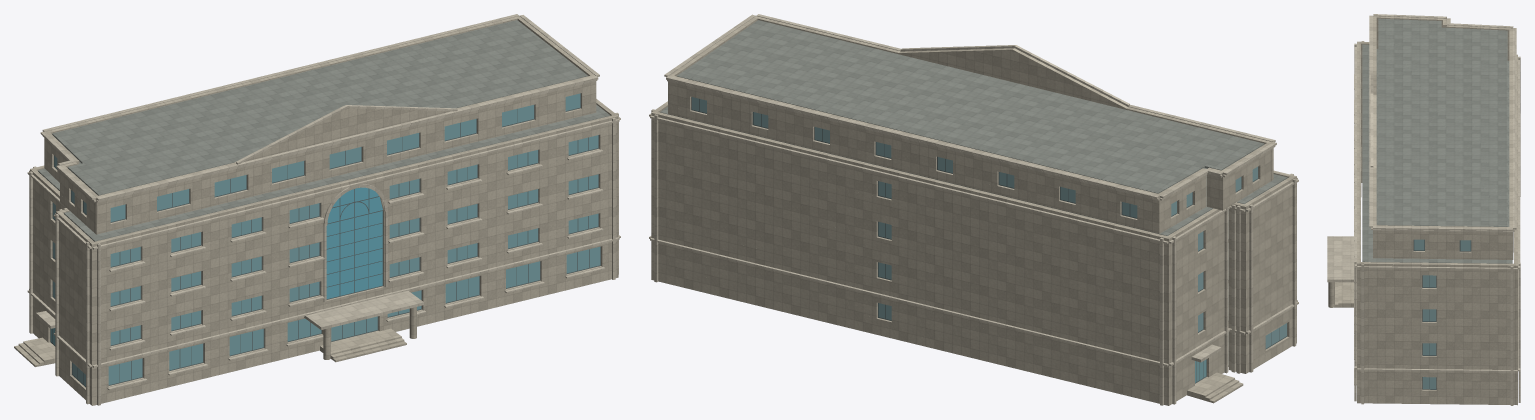
3 views of the same model, side by side, from view 1: azimuth 30°, elevation 25°; view 2: azimuth 150°, elevation 25°; view 3: azimuth 270°, elevation 25° (orthographic). The views are drawn at different scales.
Visible parts, largest first — view 1: holton__stone, holton__roof, holton__trim, holton__glass, holton__archglass, holton__frame, holton__stair-main, holton__threshold-main; view 2: holton__stone, holton__roof, holton__trim, holton__sideglass, holton__frame; view 3: holton__roof, holton__stone, holton__trim, holton__sideglass, holton__threshold-main, holton__frame, holton__stair-main.
Part boxes in pixels (x1,y1,x2,y2): holton__stone: (30, 16, 618, 405); holton__roof: (38, 20, 610, 241); holton__trim: (27, 14, 620, 405); holton__glass: (50, 93, 600, 384); holton__archglass: (326, 187, 382, 298); holton__frame: (50, 93, 600, 387); holton__stair-main: (330, 334, 406, 362); holton__threshold-main: (320, 328, 398, 352); holton__stone: (651, 16, 1296, 405); holton__roof: (660, 20, 1287, 366); holton__trim: (649, 14, 1298, 405); holton__sideglass: (692, 97, 1286, 348); holton__frame: (691, 97, 1287, 383); holton__roof: (1362, 18, 1512, 263); holton__stone: (1328, 16, 1517, 405); holton__trim: (1327, 14, 1520, 405); holton__sideglass: (1414, 239, 1470, 389); holton__threshold-main: (1342, 282, 1353, 307); holton__frame: (1413, 239, 1471, 389); holton__stair-main: (1334, 282, 1342, 307).
Bounding box in the file's own units: 55.77 × 22.88 × 20.14.
Materials: 7 (3 with a texture image).
